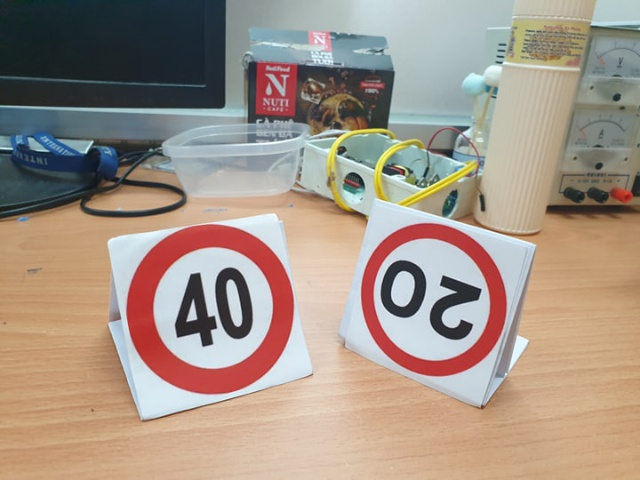Limit 20: (361, 225, 509, 378)
Limit 40: (126, 224, 295, 394)
